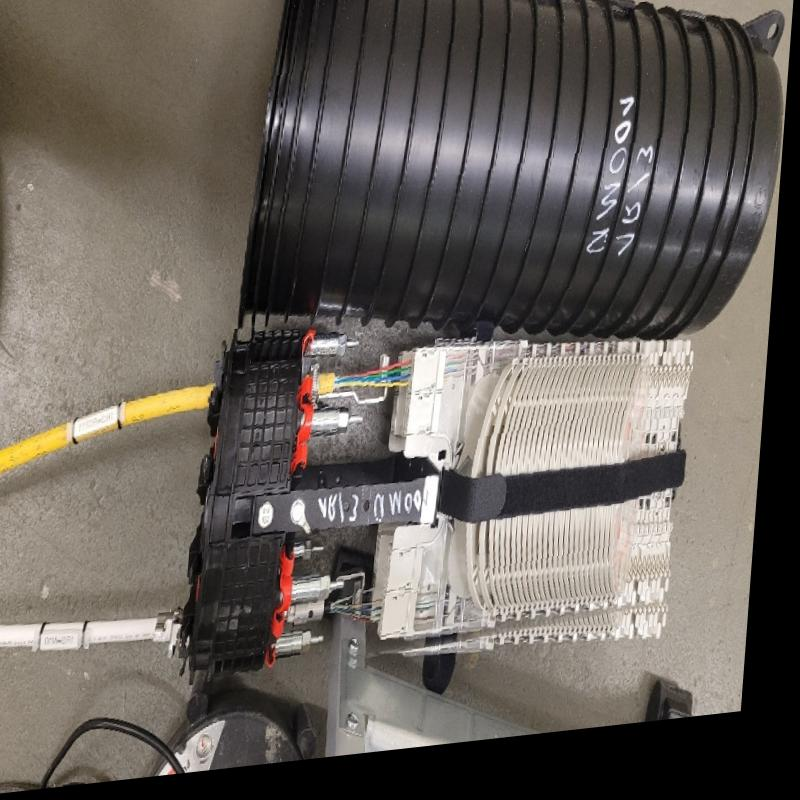NT-Muffen: (186, 0, 789, 695)
